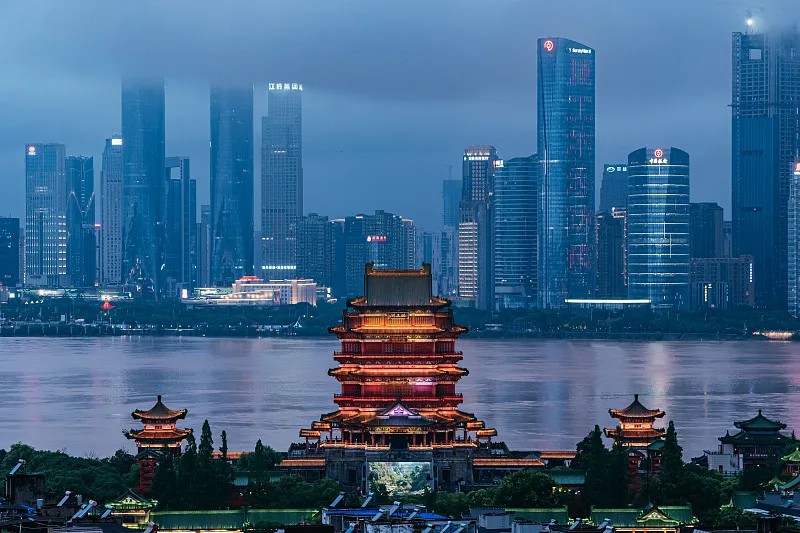Teng: (299, 261, 496, 444)
